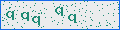q: (32, 16, 41, 26), (68, 14, 77, 23), (55, 7, 63, 16), (21, 12, 29, 21), (6, 11, 14, 20)
